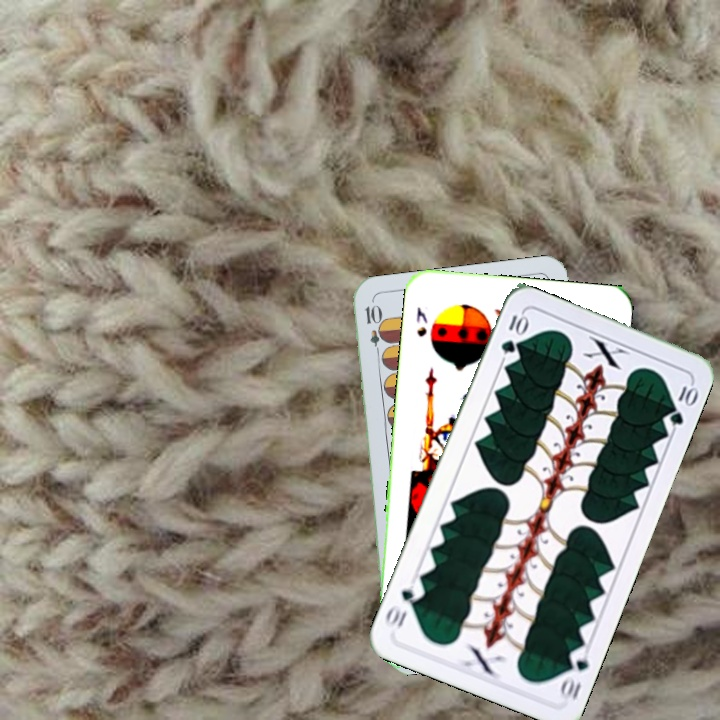E10: (361, 301, 385, 360)
G10: (556, 643, 592, 703), (496, 309, 530, 356)
SK: (412, 303, 430, 340)
